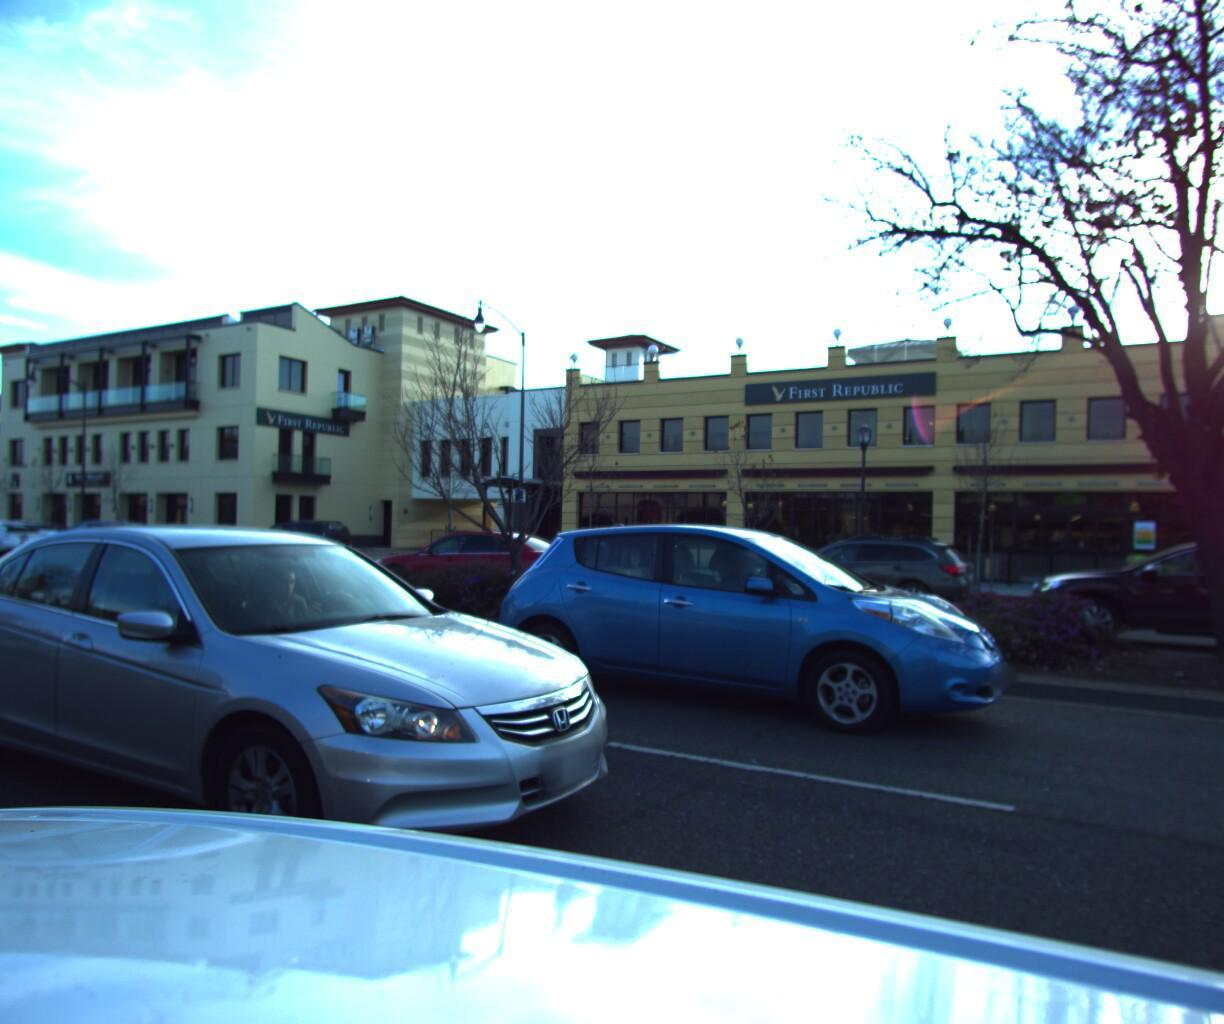car: (0, 526, 680, 976), (479, 521, 1009, 765), (1014, 534, 1224, 676), (733, 527, 987, 623), (351, 519, 599, 615), (30, 515, 169, 573), (232, 513, 360, 566), (0, 515, 45, 555)
